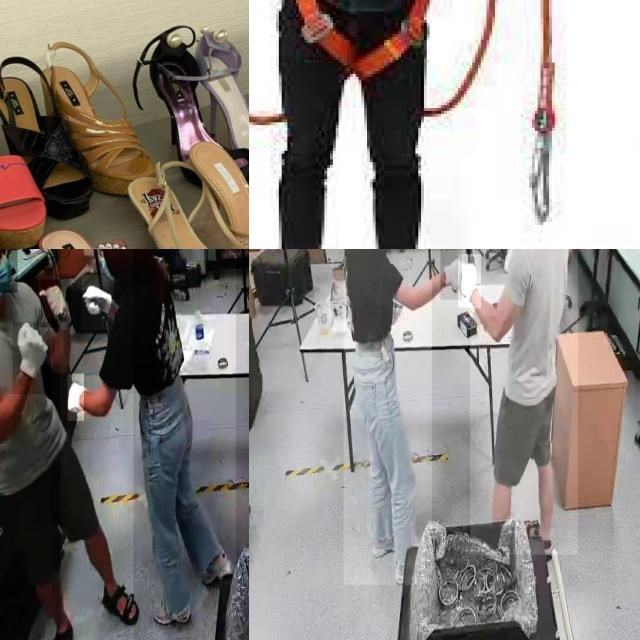Harness: (279, 0, 441, 79)
Sandals: (132, 155, 249, 249), (28, 201, 219, 249)
face_mask: (0, 249, 17, 292)
hand_glove: (12, 322, 50, 394), (82, 275, 114, 330), (40, 280, 70, 328), (458, 254, 481, 308), (440, 249, 461, 300), (68, 374, 84, 421)
person: (60, 249, 236, 640), (0, 249, 134, 640), (469, 249, 578, 555), (343, 249, 432, 585)
shoes: (151, 589, 194, 630), (197, 546, 234, 592), (368, 521, 406, 557)
